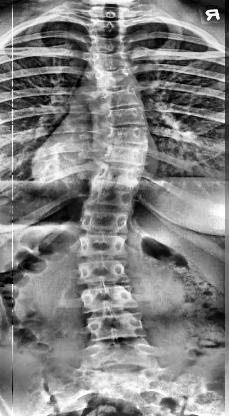Vertebrae: (88, 340, 156, 374), (85, 314, 146, 342), (94, 160, 144, 192), (82, 286, 138, 312), (102, 140, 154, 168), (80, 233, 133, 258), (88, 186, 134, 214), (78, 258, 130, 282), (82, 208, 132, 232), (106, 106, 154, 128), (102, 87, 146, 111), (104, 126, 156, 146), (97, 68, 141, 86), (89, 16, 126, 36), (90, 37, 130, 55), (94, 51, 134, 68)
